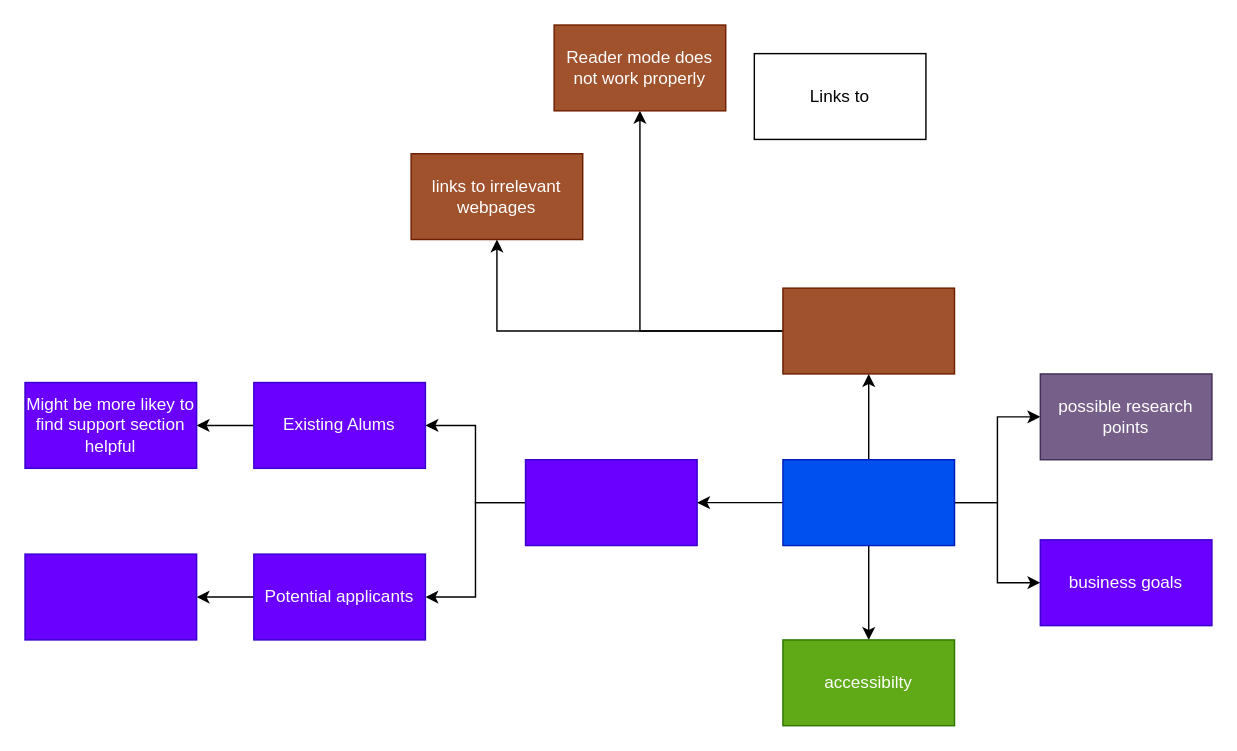
Some shapes in this 1237 by 751 pixel diagram are drawn without their labels. The box of each missing label's shape, as (x1, y1, x2, y2) in pixels:
could me more interested in benefits: (24, 553, 197, 640)
possible pain points: (781, 287, 955, 374)
Solent Alumni: (781, 458, 955, 546)
target audience: (524, 458, 697, 546)
